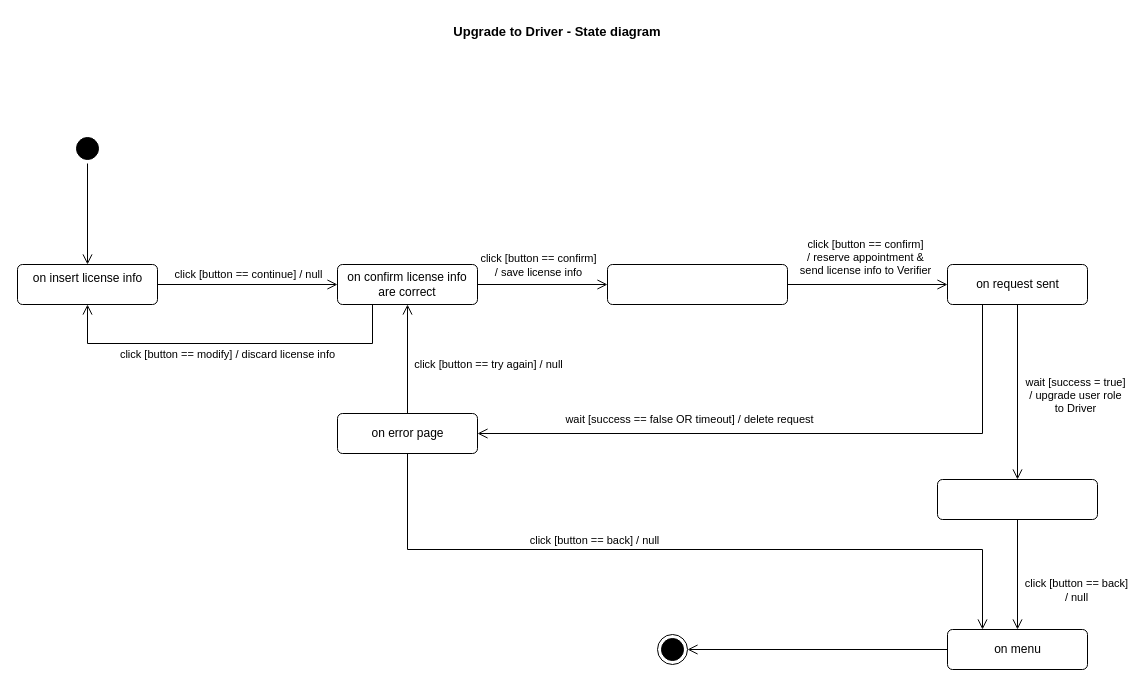
This 1145x687 diagram has some shape labels left out. Here are the shapes that lost their labels. From the top down, the centre of each, then its label:
the point at 697,284: on reserve appointment to verify
the point at 1017,499: on successful upgrade page
